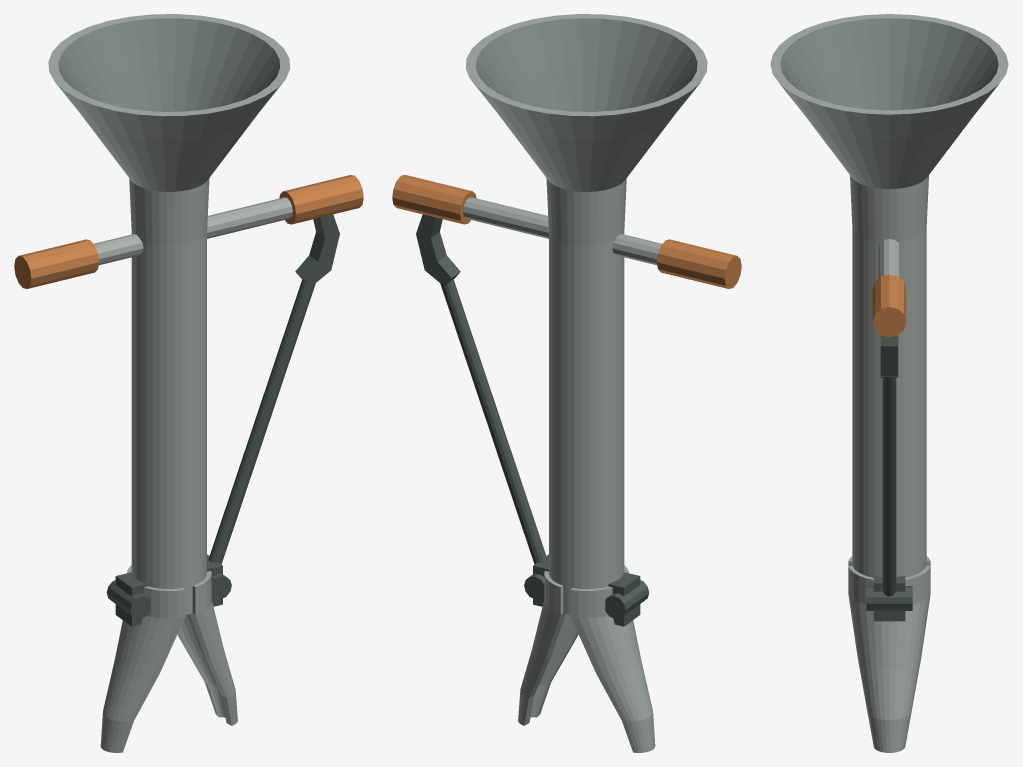
3 renders of one model, left to right at view 1: azimuth 30°, elevation 25°; view 2: azimuth 150°, elevation 25°; view 3: azimuth 270°, elevation 25°, orthographic.
Visible parts, largest first — view 1: WholeOpenUpperFunnelAndLongThroughTube, WholeTaperedOpenHalfNozzleJaw0, WholeLongOutsideNozzleLink, WholeTaperedOpenHalfNozzleJaw1, WholeShortSideGrip0, WholeShortSideGrip1, WholeUpperSideGripStem1, WholeFixedCurvedTriggerLever, WholeUpperSideGripStem0, WholeFixedLowerExternalPin0, WholeOutsideLowerJawBracket0; view 2: WholeOpenUpperFunnelAndLongThroughTube, WholeTaperedOpenHalfNozzleJaw0, WholeLongOutsideNozzleLink, WholeTaperedOpenHalfNozzleJaw1, WholeShortSideGrip0, WholeShortSideGrip1, WholeUpperSideGripStem1, WholeFixedCurvedTriggerLever, WholeUpperSideGripStem0, WholeFixedLowerExternalPin0, WholeOutsideLowerJawBracket0; view 3: WholeOpenUpperFunnelAndLongThroughTube, WholeTaperedOpenHalfNozzleJaw1, WholeLongOutsideNozzleLink, WholeShortSideGrip1, WholeFixedLowerExternalPin1, WholeUpperSideGripStem1, WholeFixedCurvedTriggerLever, WholeOutsideLowerJawBracket1.
Boxes of the visible parts, x1,y1,x2,y2 form: WholeOpenUpperFunnelAndLongThroughTube: (48, 14, 290, 614); WholeTaperedOpenHalfNozzleJaw0: (100, 565, 185, 752); WholeLongOutsideNozzleLink: (208, 279, 315, 564); WholeTaperedOpenHalfNozzleJaw1: (177, 571, 237, 725); WholeShortSideGrip0: (14, 239, 98, 288); WholeShortSideGrip1: (279, 175, 363, 224); WholeUpperSideGripStem1: (207, 197, 292, 238); WholeFixedCurvedTriggerLever: (295, 214, 339, 286); WholeUpperSideGripStem0: (93, 234, 143, 265); WholeFixedLowerExternalPin0: (106, 580, 150, 618); WholeOutsideLowerJawBracket0: (115, 572, 147, 626); WholeOpenUpperFunnelAndLongThroughTube: (465, 14, 707, 614); WholeTaperedOpenHalfNozzleJaw0: (570, 565, 655, 752); WholeLongOutsideNozzleLink: (440, 279, 547, 564); WholeTaperedOpenHalfNozzleJaw1: (518, 571, 578, 725); WholeShortSideGrip0: (657, 239, 741, 288); WholeShortSideGrip1: (392, 175, 476, 224); WholeUpperSideGripStem1: (463, 197, 548, 238); WholeFixedCurvedTriggerLever: (416, 214, 460, 286); WholeUpperSideGripStem0: (612, 234, 662, 265); WholeFixedLowerExternalPin0: (605, 580, 649, 618); WholeOutsideLowerJawBracket0: (608, 572, 640, 626); WholeOpenUpperFunnelAndLongThroughTube: (770, 14, 1008, 577); WholeTaperedOpenHalfNozzleJaw1: (848, 566, 930, 752); WholeLongOutsideNozzleLink: (882, 377, 896, 596); WholeShortSideGrip1: (872, 274, 906, 337); WholeFixedLowerExternalPin1: (866, 586, 912, 610); WholeUpperSideGripStem1: (878, 239, 900, 277); WholeFixedCurvedTriggerLever: (880, 335, 898, 377); WholeOutsideLowerJawBracket1: (873, 575, 905, 621).
Bounding box in the file's own units: 0.76 × 1.46 × 0.48.
